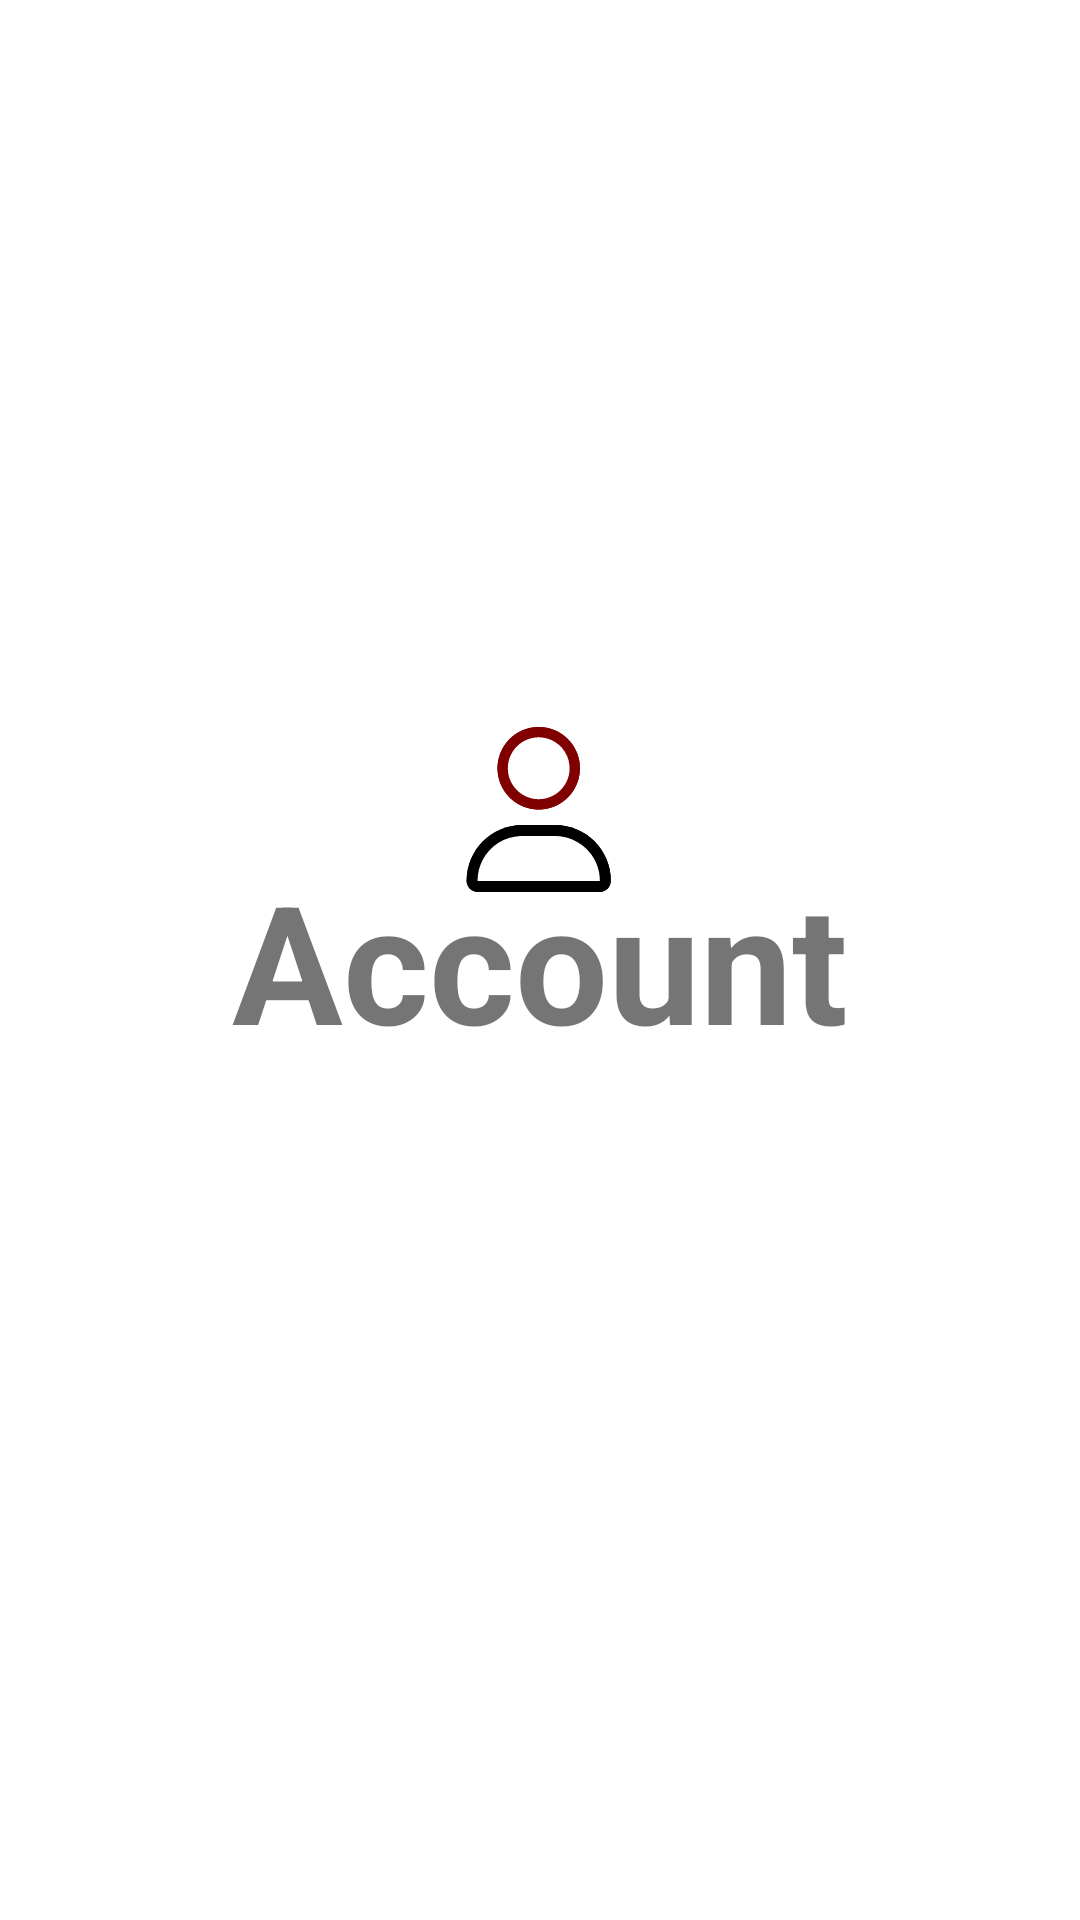

Where icons sit on this 1080×1920 app screen, as (x1, y1, x2, y2):
user: (466, 727, 611, 892)
